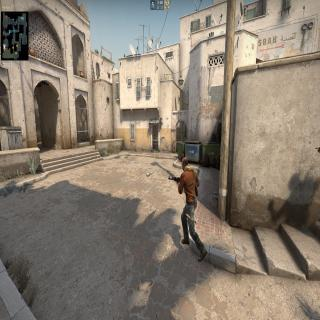T-Head: (182, 156, 188, 172)
